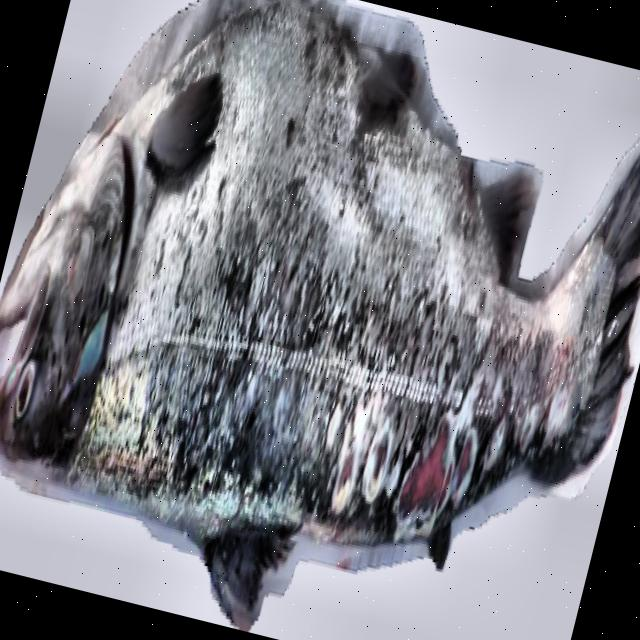mild_red: (99, 5, 614, 518)
wound: (361, 412, 477, 547), (333, 423, 357, 506)
